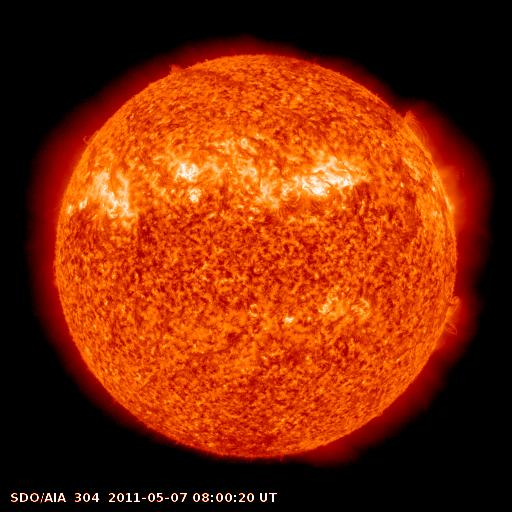prominence: (396, 101, 441, 162), (159, 52, 196, 81)
